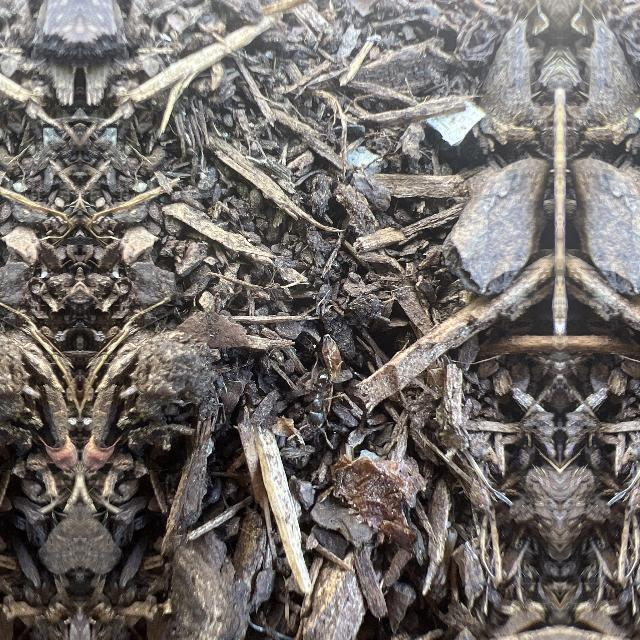Tetramorium: (292, 365, 344, 435)
